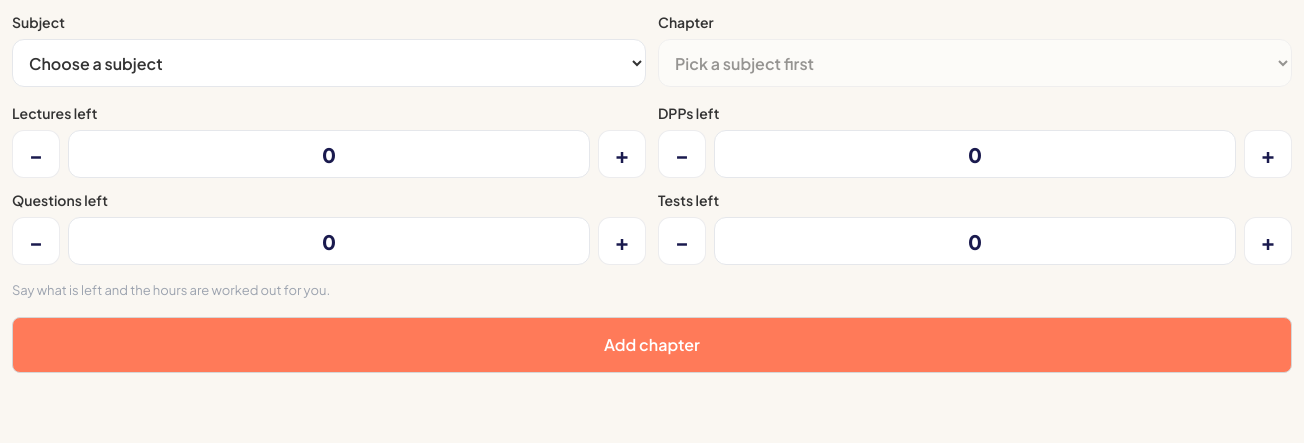
Test case: Backlog fast intake › needs a chapter and at least one number
Click the button with test id "intake-submit". click: click(652, 344)
box: [12,316,1292,372]
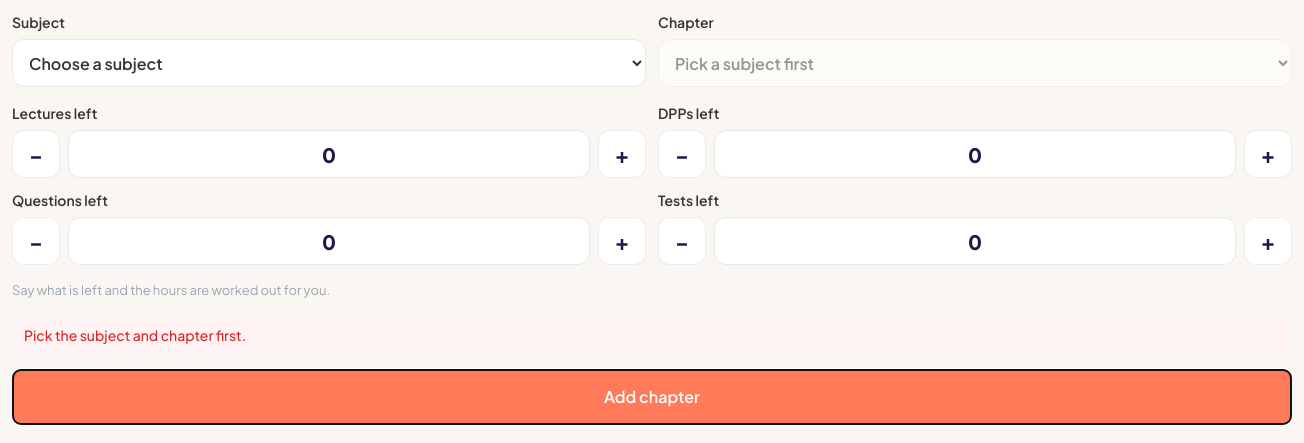
Expected: the message reads "Pick the subject and chapter first.", [24,326,246,344]
